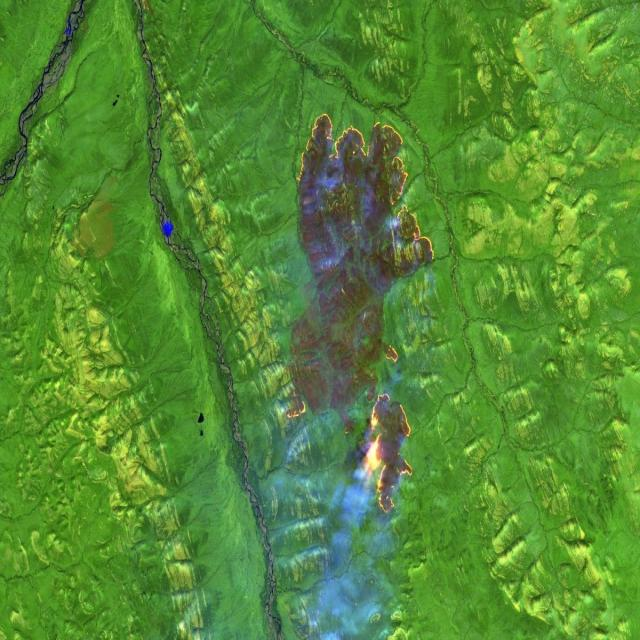fire: (279, 104, 438, 520)
